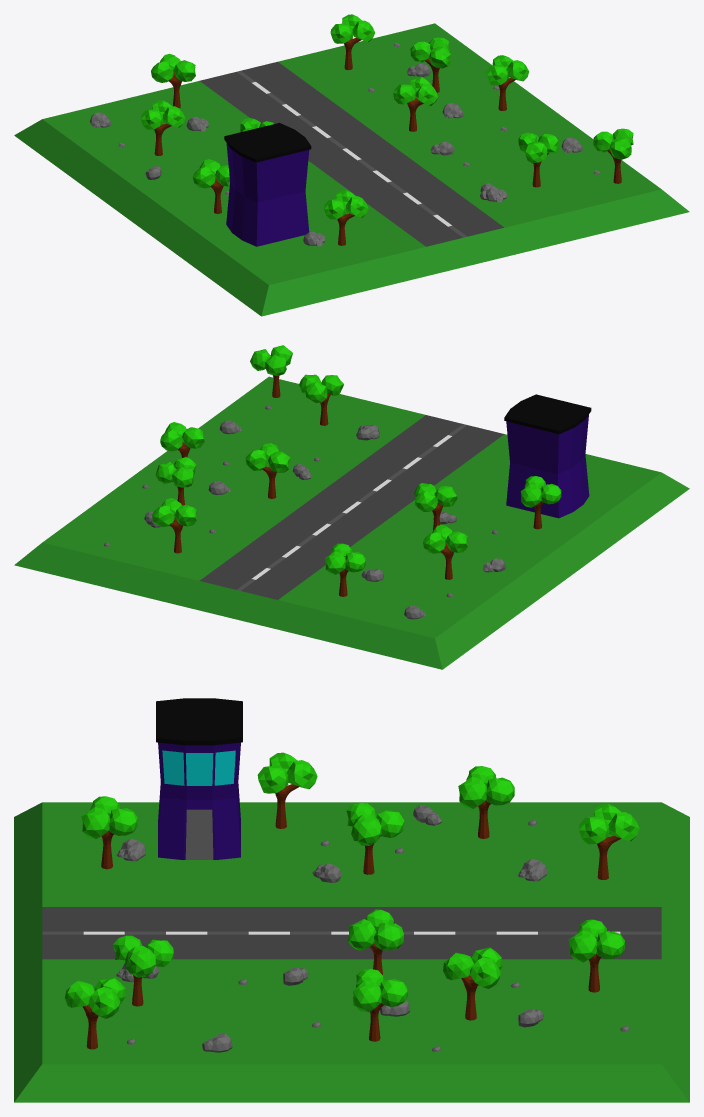
File: Взлетка.fbx
The picture shows the model from 3 angles, top to bottom: view 1: azimuth 30°, elevation 25°; view 2: azimuth 150°, elevation 25°; view 3: azimuth 270°, elevation 25°; orthographic projection. The views are drawn at different scales.
Parts seen in each view (by area): view 1: Плоскость.001; view 2: Плоскость.001; view 3: Плоскость.001.
Part boxes in pixels (x1,y1,x2,y2): Плоскость.001: (14, 14, 689, 316); Плоскость.001: (14, 345, 689, 669); Плоскость.001: (14, 698, 689, 1102).
Size of the model in its own units: 1625 by 390 by 1625.
